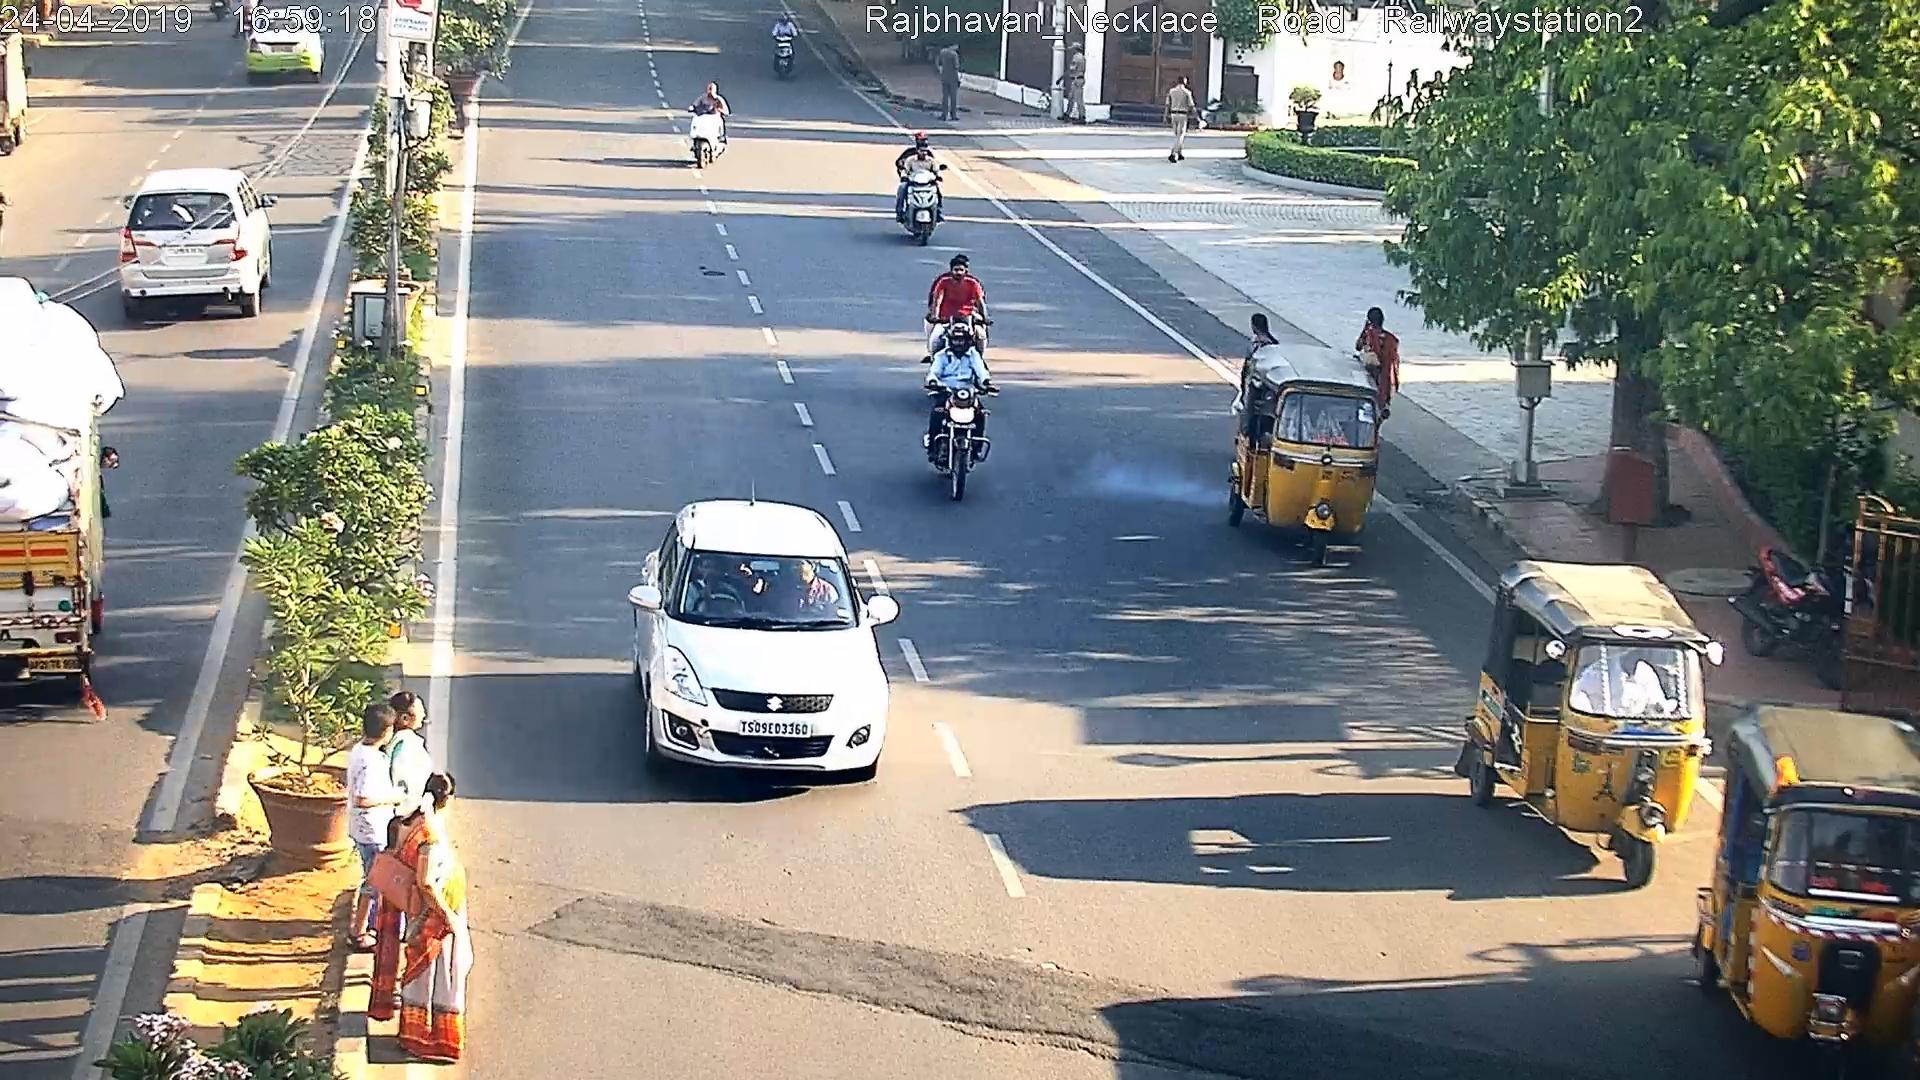2Wheeler: (928, 324, 992, 502), (894, 132, 952, 237), (684, 80, 737, 171), (680, 76, 733, 167), (683, 78, 735, 170), (679, 74, 731, 166)
